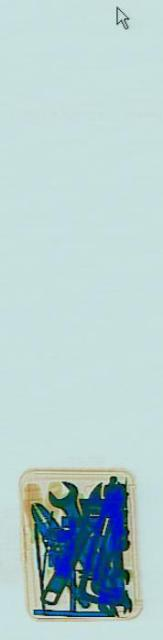Pliers: (27, 484, 90, 608)
Wrench: (46, 445, 113, 615), (37, 472, 106, 624)
